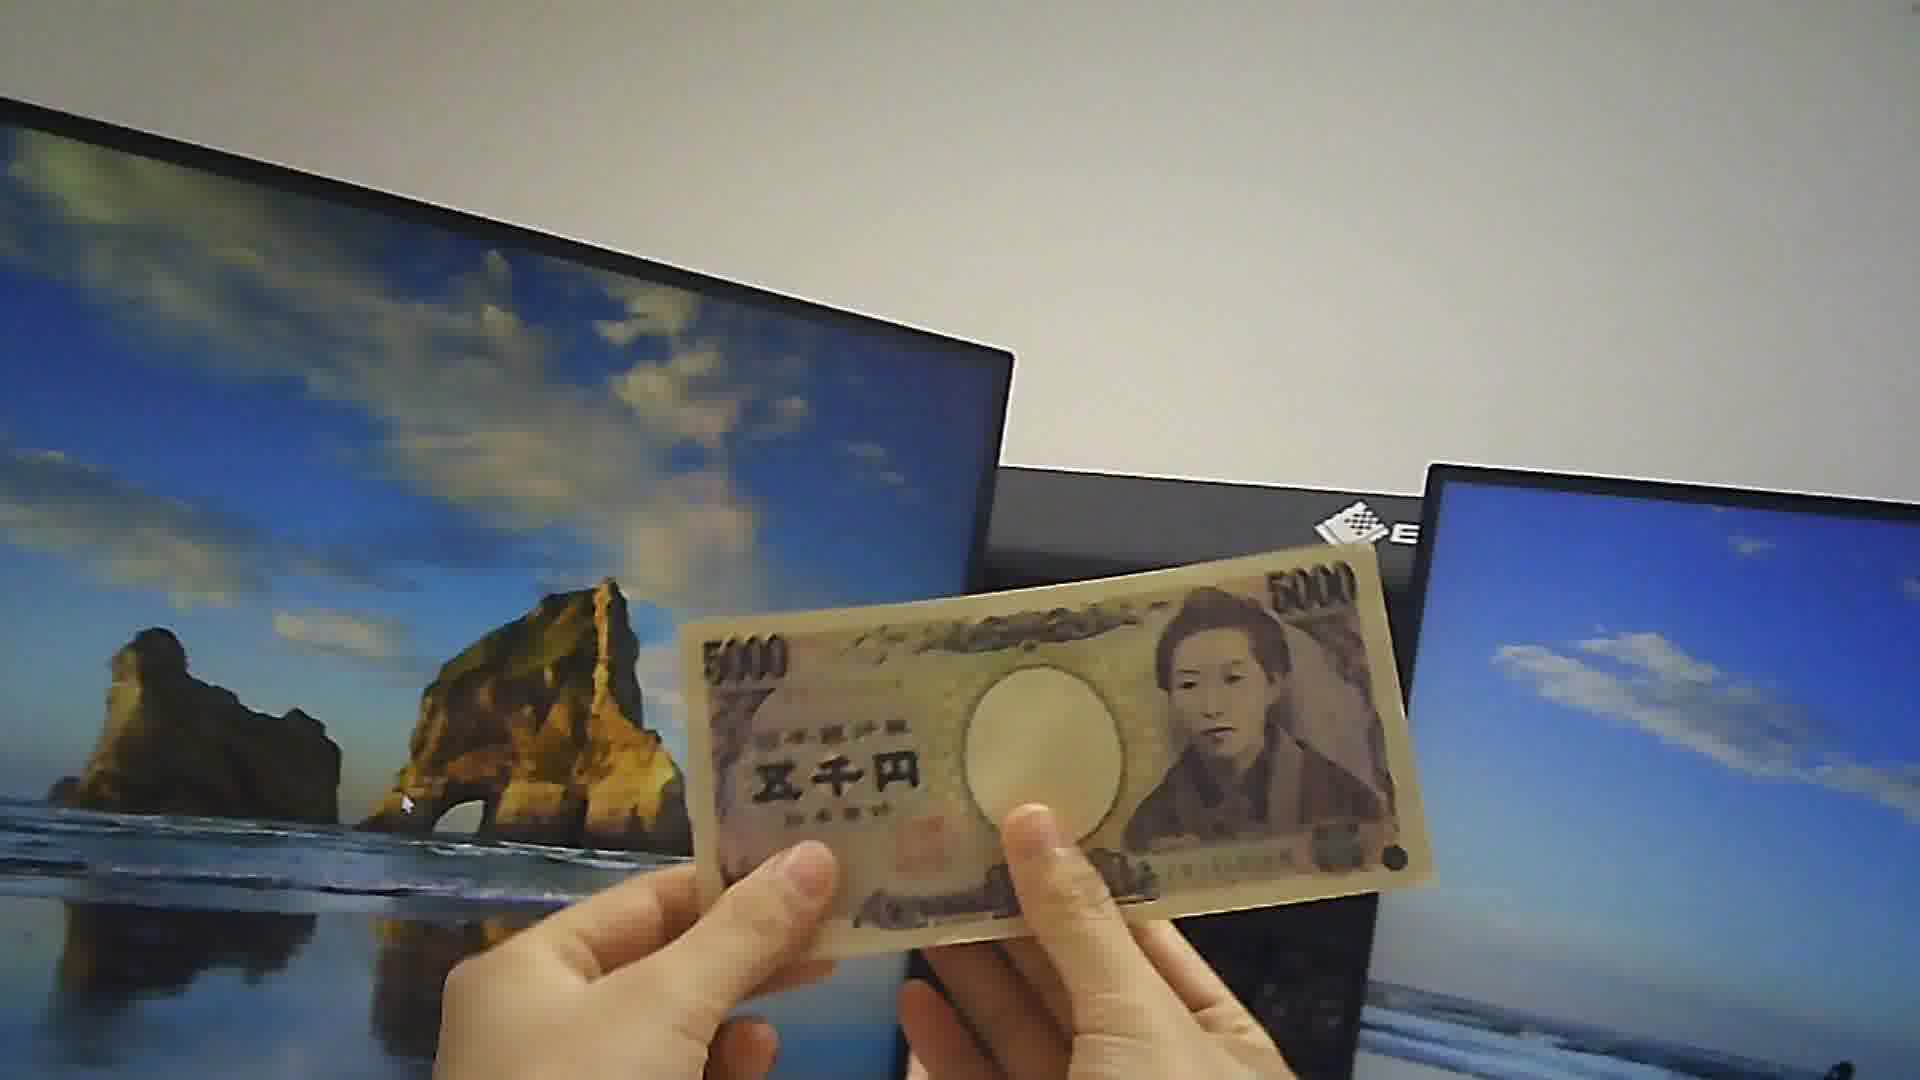5,000 Yen: (651, 551, 1472, 924)
